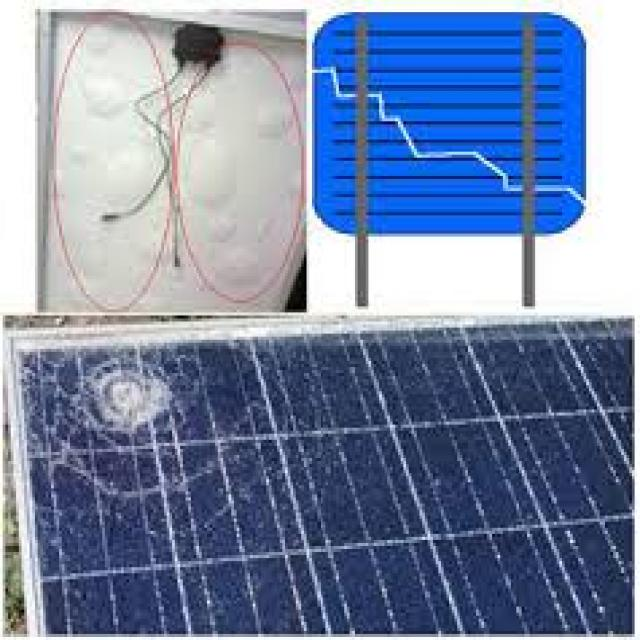faulty: (15, 330, 640, 639)
